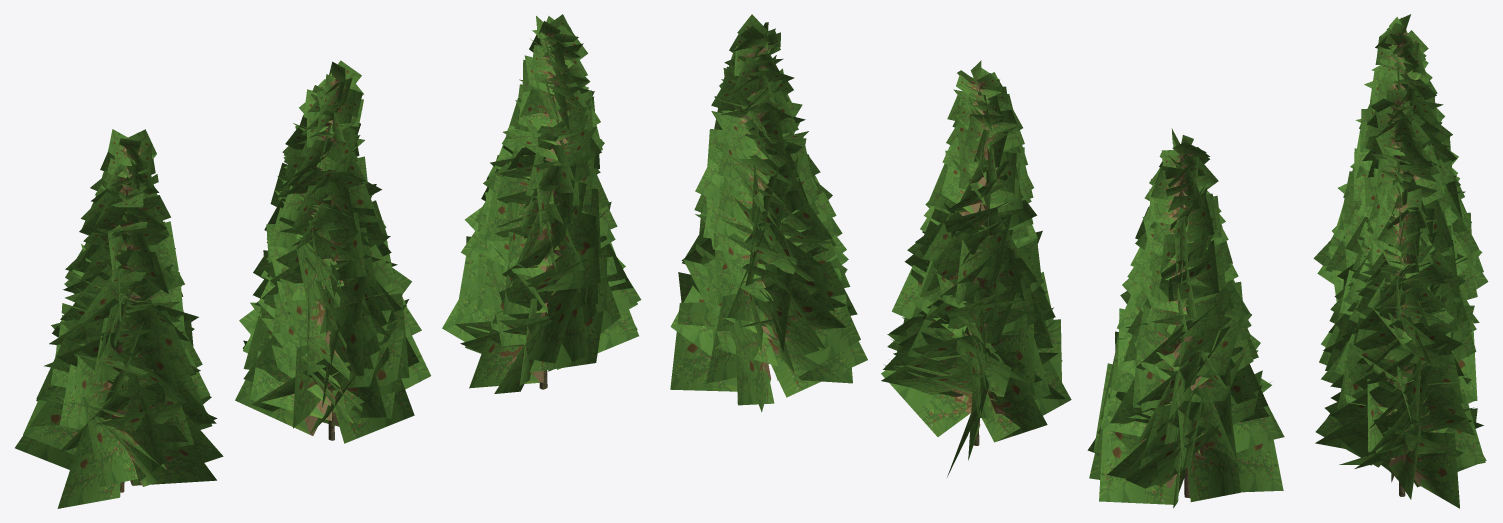
3 renders of one model, left to right at view 1: azimuth 30°, elevation 25°; view 2: azimuth 150°, elevation 25°; view 3: azimuth 270°, elevation 25°, orthographic. The views are drawn at different scales.
Visible parts, largest first — view 1: Tree-1_1, Tree_0, Tree-2_2; view 2: Tree-2_2, Tree_0, Tree-1_1; view 3: Tree-2_2, Tree-1_1, Tree_0.
Boxes of the visible parts, x1,y1,x2,y2 form: Tree-1_1: (235,60,430,443); Tree_0: (15,129,223,508); Tree-2_2: (442,14,641,393); Tree-2_2: (670,14,867,412); Tree_0: (1087,128,1284,508); Tree-1_1: (881,60,1071,477); Tree-2_2: (1315,181,1486,508); Tree-1_1: (1319,89,1477,400); Tree_0: (1313,14,1488,323).
Size of the model in its own units: 2.74 by 1.72 by 0.8422.
Materials: 2 (2 with a texture image).
